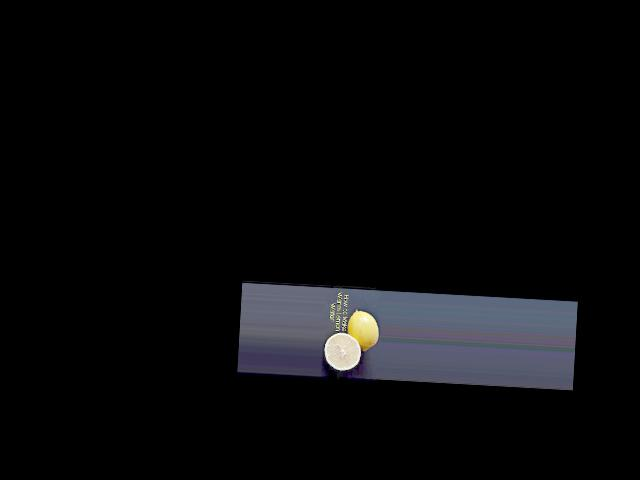lemon: (348, 307, 380, 351)
